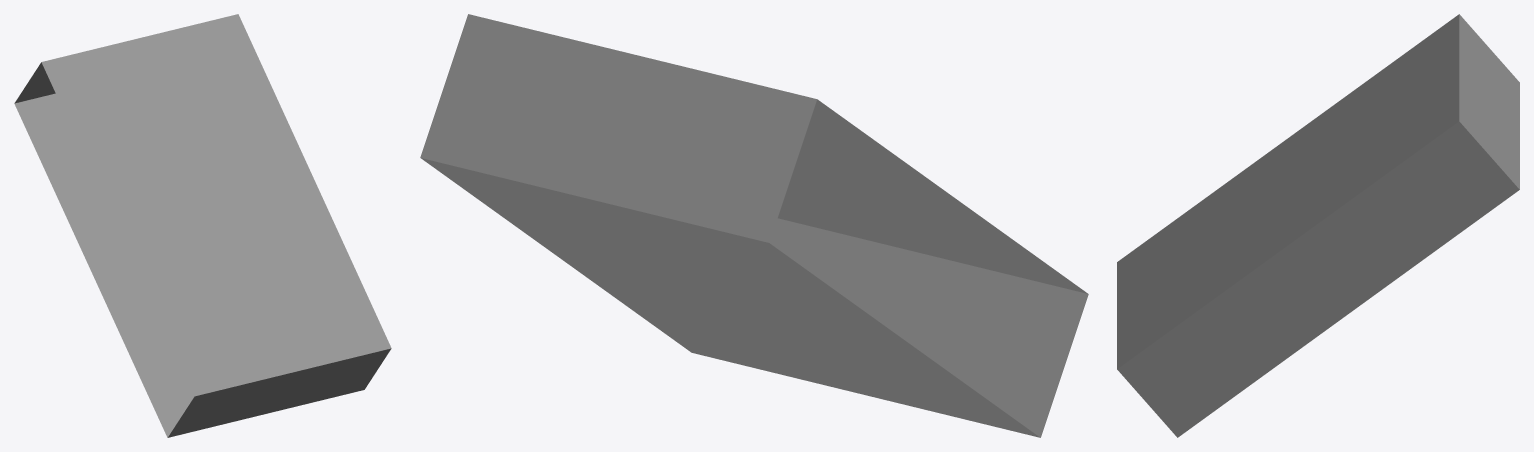
File: SW_ENV_Railing_StairWall_01_Collision.fbx
3 views of the same model, side by side, from view 1: azimuth 30°, elevation 25°; view 2: azimuth 150°, elevation 25°; view 3: azimuth 270°, elevation 25° (orthographic). The views are drawn at different scales.
Parts seen in each view (by area): view 1: SW_ENV_Railing_StairWall_01_Collision; view 2: SW_ENV_Railing_StairWall_01_Collision; view 3: SW_ENV_Railing_StairWall_01_Collision.
Part boxes in pixels (box(x1,y1,x2,y2)): SW_ENV_Railing_StairWall_01_Collision: box(14, 14, 391, 437); SW_ENV_Railing_StairWall_01_Collision: box(420, 14, 1088, 437); SW_ENV_Railing_StairWall_01_Collision: box(1117, 14, 1519, 437).
Bounding box in the file's own units: 0.1856 × 0.2552 × 0.2942.
